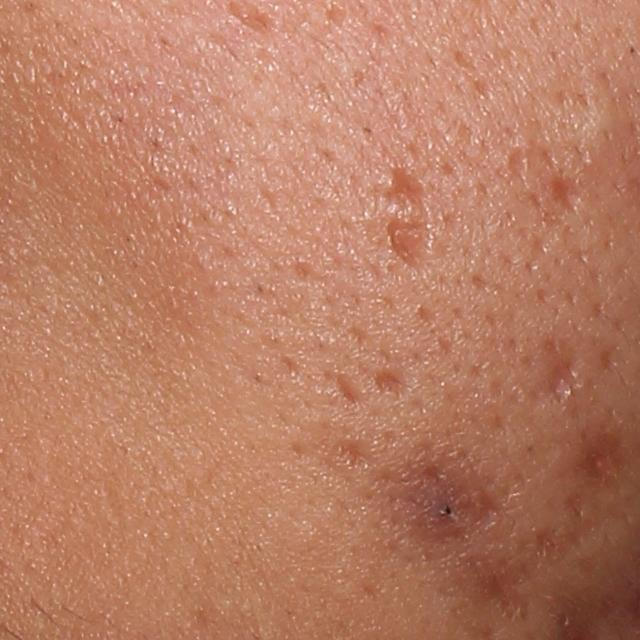atrophic_scar: (154, 28, 249, 147), (382, 163, 437, 271), (542, 64, 604, 135), (524, 194, 570, 269), (473, 570, 528, 622), (547, 354, 591, 412), (546, 170, 591, 219), (395, 443, 458, 478), (328, 435, 379, 476), (370, 367, 412, 406), (507, 147, 530, 195), (334, 372, 363, 409)
